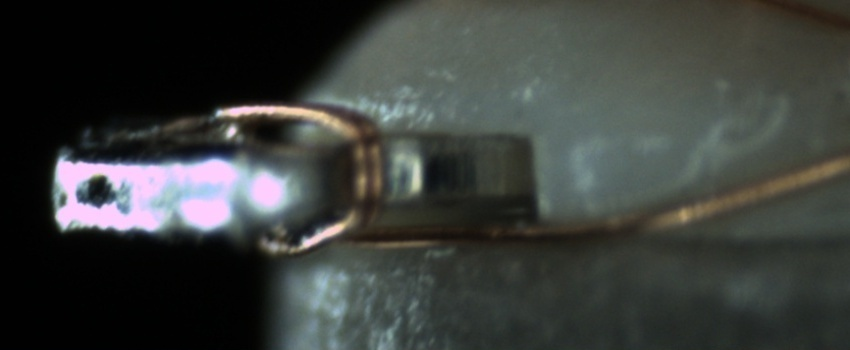TE: (207, 86, 396, 252)
